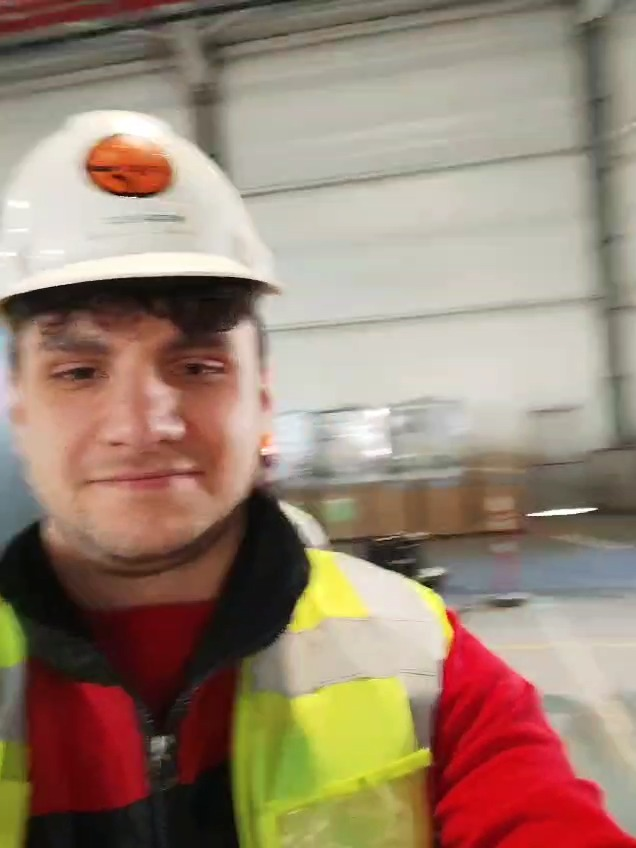safety_helmet: (1, 107, 283, 314)
